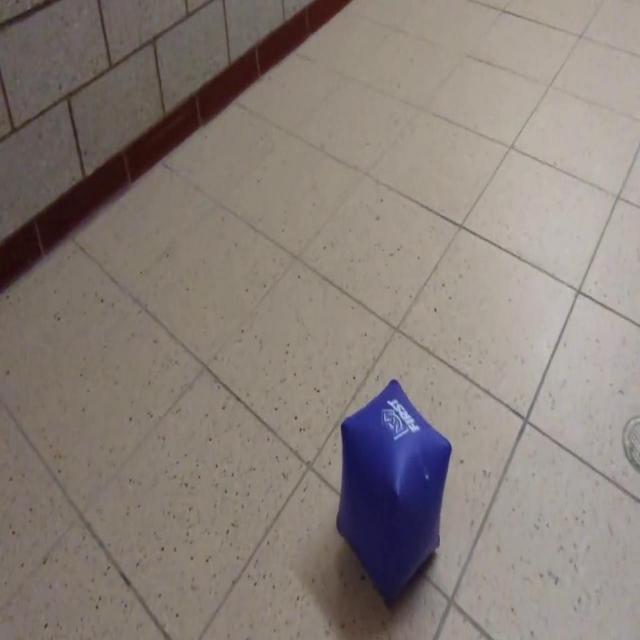frc_cube: (330, 368, 454, 597)
